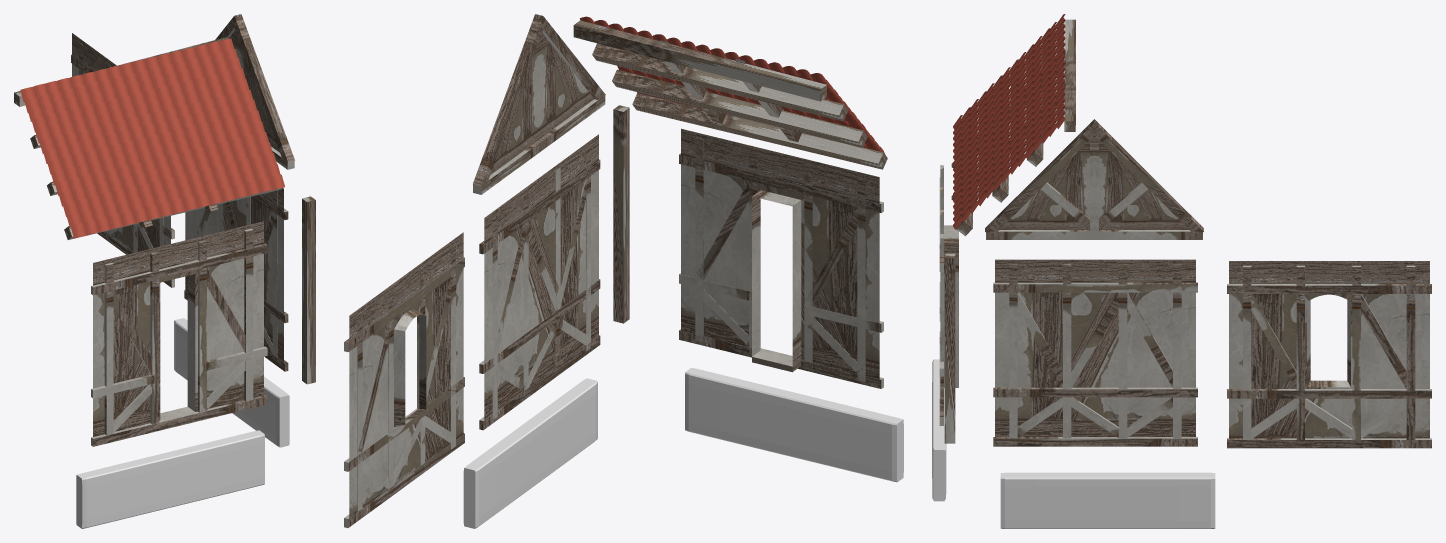
The model's file is MedievalHouse.fbx.
The picture shows the model from 3 angles, left to right: view 1: azimuth 30°, elevation 25°; view 2: azimuth 150°, elevation 25°; view 3: azimuth 270°, elevation 25°; orthographic projection. The views are drawn at different scales.
Parts seen in each view (by area): view 1: Roof, Door, StoneWall, Wall, RoofEnd, Window, StoneWall.001, Post; view 2: Door, Wall, Window, Roof, StoneWall, RoofEnd, StoneWall.001, Post; view 3: Wall, Window, RoofEnd, Roof, StoneWall.001, Door, Post, StoneWall.
Part boxes in pixels (bbox=[...]): Roof: bbox=[14, 37, 284, 239]; Door: bbox=[91, 221, 267, 446]; StoneWall: bbox=[76, 430, 264, 528]; Wall: bbox=[184, 188, 288, 371]; RoofEnd: bbox=[215, 14, 294, 169]; Window: bbox=[71, 33, 174, 287]; StoneWall.001: bbox=[174, 318, 289, 447]; Post: bbox=[302, 196, 315, 384]; Door: bbox=[679, 128, 883, 388]; Wall: bbox=[479, 134, 600, 430]; Window: bbox=[344, 232, 464, 527]; Roof: bbox=[573, 16, 887, 169]; StoneWall: bbox=[685, 367, 903, 482]; RoofEnd: bbox=[473, 14, 605, 194]; StoneWall.001: bbox=[463, 378, 597, 528]; Post: bbox=[613, 105, 629, 323]; Wall: bbox=[993, 259, 1197, 446]; Window: bbox=[1227, 261, 1431, 448]; RoofEnd: bbox=[985, 119, 1203, 239]; Roof: bbox=[951, 14, 1075, 236]; StoneWall.001: bbox=[1000, 472, 1215, 528]; Door: bbox=[939, 165, 958, 425]; Post: bbox=[944, 253, 955, 443]; StoneWall: bbox=[932, 359, 946, 501].
Bounding box in the file's own units: 282 × 446 × 497.
